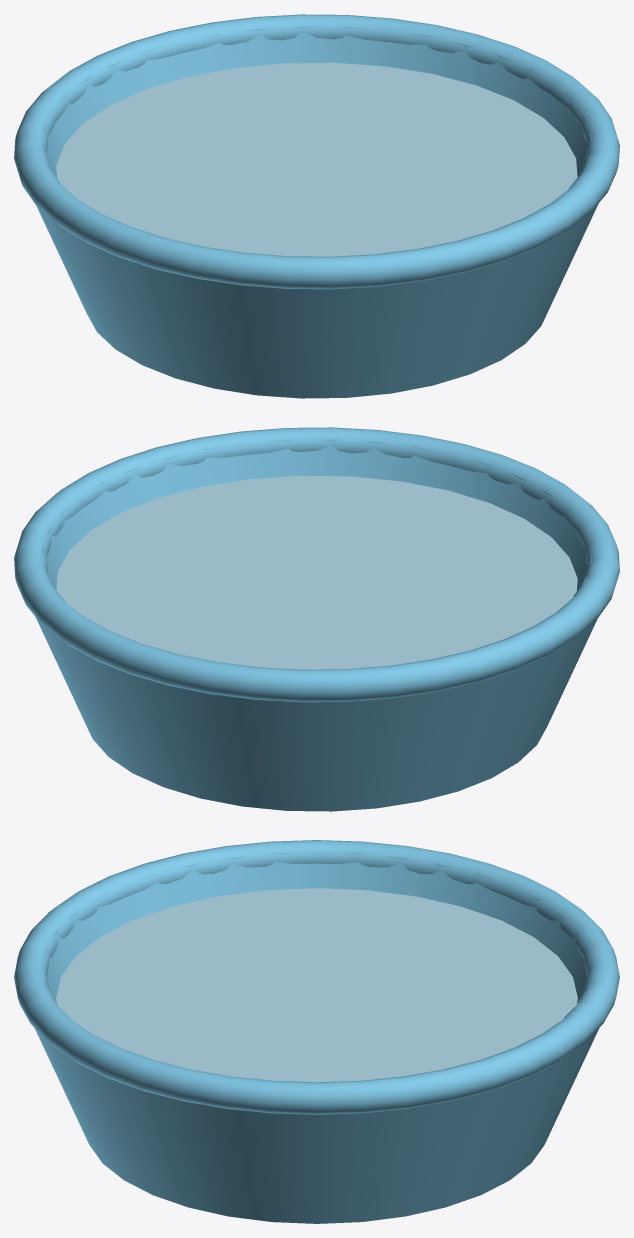
The model's file is water_bowl.glb.
The picture shows the model from 3 angles, top to bottom: view 1: azimuth 30°, elevation 25°; view 2: azimuth 150°, elevation 25°; view 3: azimuth 270°, elevation 25°; orthographic projection.
Parts seen in each view (by area): view 1: water_bowl_water, water_bowl_bowl, water_bowl_rim; view 2: water_bowl_water, water_bowl_bowl, water_bowl_rim; view 3: water_bowl_water, water_bowl_bowl, water_bowl_rim.
Part boxes in pixels (left/top/right/bottom): water_bowl_water: left=56, top=62, right=577, bottom=256; water_bowl_bowl: left=36, top=26, right=598, bottom=398; water_bowl_rim: left=14, top=14, right=619, bottom=289; water_bowl_water: left=56, top=475, right=577, bottom=669; water_bowl_bowl: left=35, top=439, right=597, bottom=811; water_bowl_rim: left=14, top=427, right=619, bottom=702; water_bowl_water: left=56, top=888, right=577, bottom=1082; water_bowl_bowl: left=35, top=852, right=598, bottom=1223; water_bowl_rim: left=14, top=840, right=619, bottom=1114.
Size of the model in its own units: 0.444 by 0.132 by 0.444.
